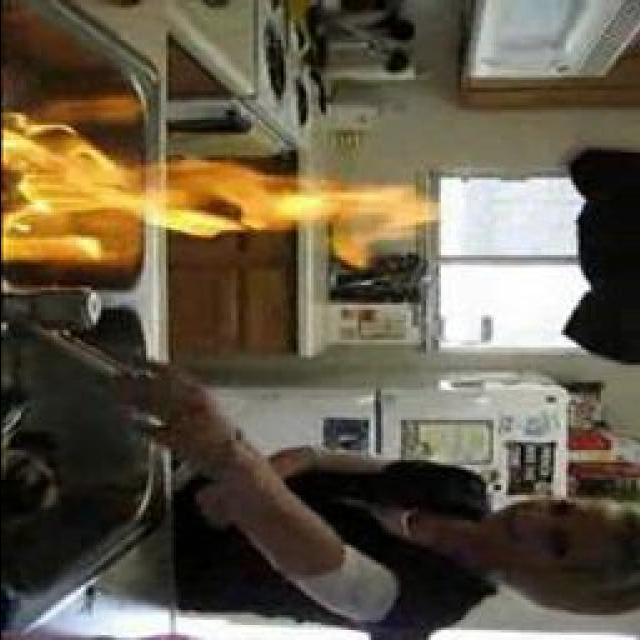Fire: (0, 133, 428, 265)
